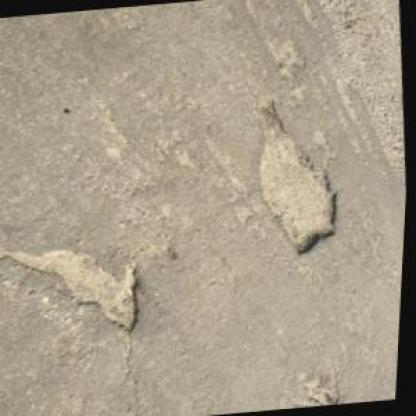pothole: (242, 90, 350, 264), (0, 230, 148, 343)
